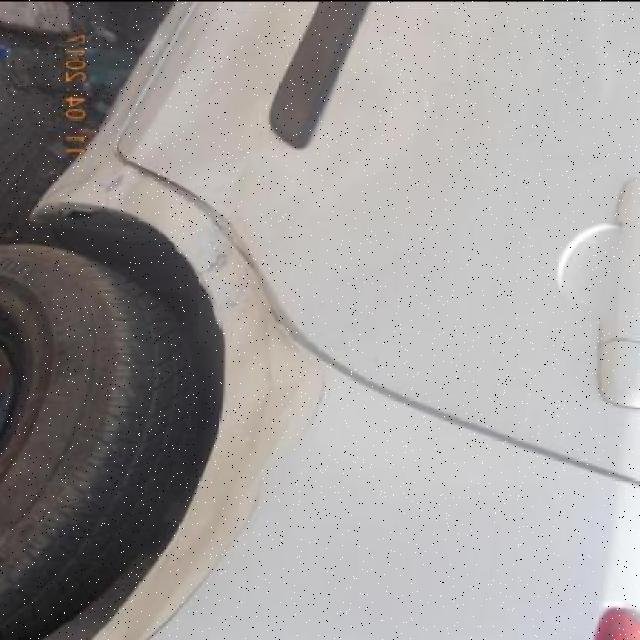damage: (41, 150, 330, 639)
